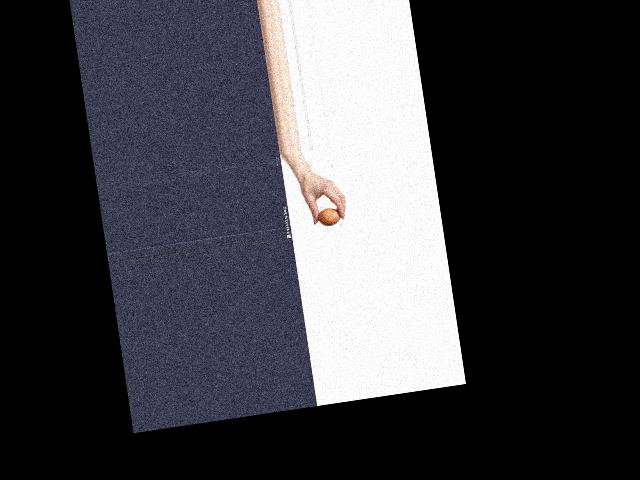egg: (316, 206, 340, 226)
